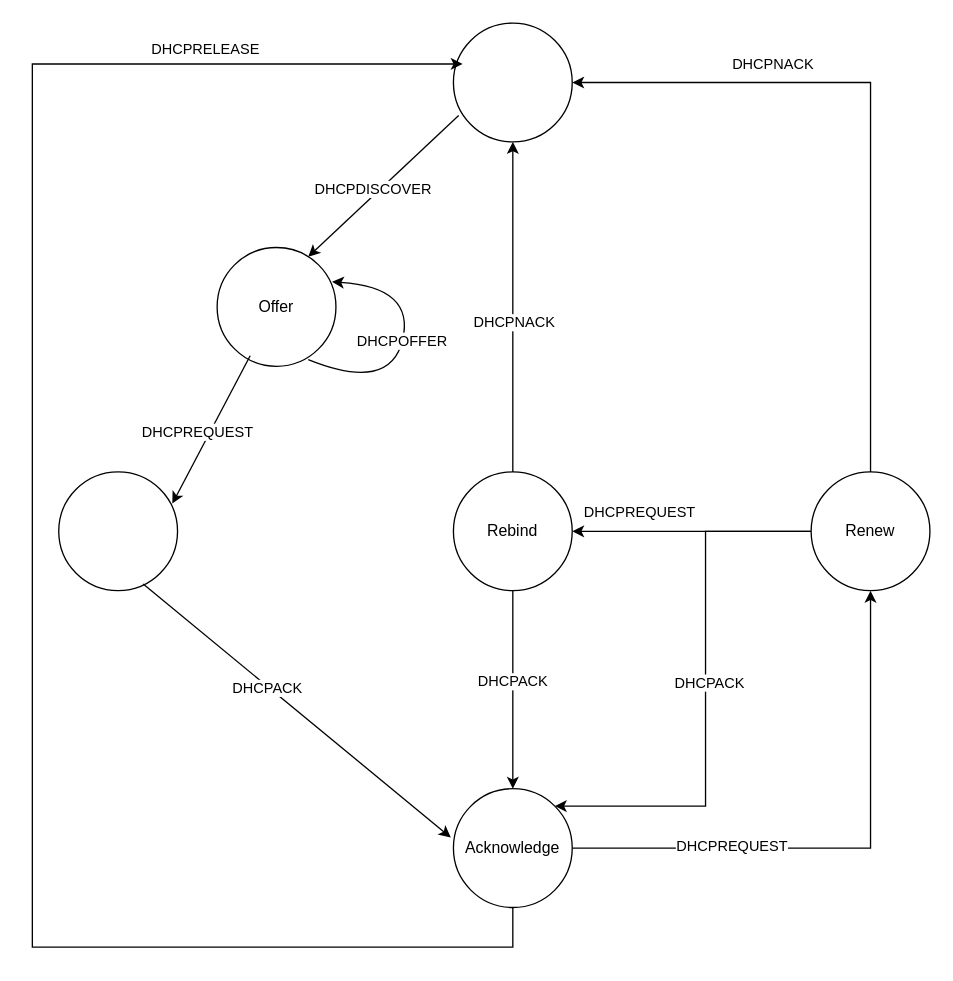
This 953x981 diagram has some shape labels left out. Each missing label, with the box of its shape:
Discowery: (452, 22, 572, 142)
Request: (57, 471, 178, 591)
